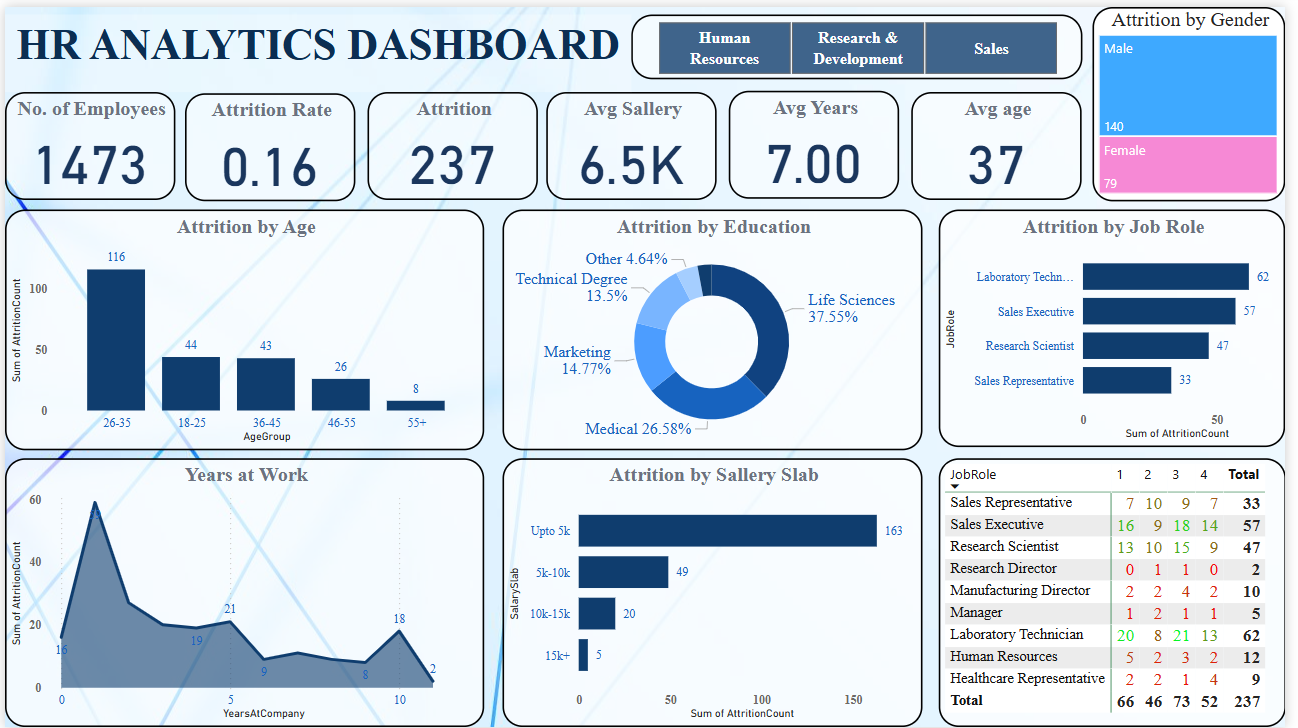

The page's visual inventory and layout, read from the dashboard file:
{"tool":"powerbi","page":{"name":"Page 1","canvas":[1280,720],"ordinal":0},"visuals":[{"type":"card","title":"No. of Employees","fields":{"Values":["CountNonNull(HR_Analytics.EmpID)"]},"box":[0,85.1,170,108],"z":0},{"type":"card","title":"Attrition Rate","fields":{"Values":["HR_Analytics.AttritionRate"]},"box":[180.3,86.6,170.2,108.2],"z":1000},{"type":"card","title":"Attrition","fields":{"Values":["Sum(HR_Analytics.AttritionCount)"]},"box":[362.1,85.1,170.2,108.2],"z":2000},{"type":"card","title":"Avg age ","fields":{"Values":["Avg(HR_Analytics.Age)"]},"box":[906.1,85.1,170.2,108.2],"z":3000},{"type":"card","title":"Avg Years","fields":{"Values":["Avg(HR_Analytics.YearsAtCompany)"]},"box":[724.3,83.7,170.2,108.2],"z":4000},{"type":"card","title":"Avg Sallery","fields":{"Values":["Avg(HR_Analytics.MonthlyIncome)"]},"box":[541,85.1,170.2,108.2],"z":5000},{"type":"donutChart","title":" Attrition by Education","fields":{"Category":["HR_Analytics.EducationField"],"Y":["Sum(HR_Analytics.AttritionCount)"]},"box":[497.3,203.1,419.6,240.4],"z":6000},{"type":"columnChart","title":"Attrition by Age","fields":{"Y":["Sum(HR_Analytics.AttritionCount)"],"Category":["HR_Analytics.AgeGroup"]},"box":[0,203.1,479.3,240.4],"z":7000},{"type":"pivotTable","fields":{"Rows":["HR_Analytics.JobRole"],"Columns":["HR_Analytics.JobSatisfaction"],"Values":["Sum(HR_Analytics.AttritionCount)"]},"box":[933.3,451,347,269],"z":8000},{"type":"barChart","title":"Attrition by Sallery Slab","fields":{"Category":["HR_Analytics.SalarySlab"],"Y":["Sum(HR_Analytics.AttritionCount)"]},"box":[497.3,451,420,269],"z":9000},{"type":"barChart","title":"Attrition by Job Role","fields":{"Category":["HR_Analytics.JobRole"],"Y":["Sum(HR_Analytics.AttritionCount)"]},"box":[933.3,203.1,346.4,237.4],"z":10000},{"type":"areaChart","title":"Years at Work","fields":{"Category":["HR_Analytics.YearsAtCompany"],"Y":["Sum(HR_Analytics.AttritionCount)"]},"box":[0,451,479.3,268.8],"z":11000},{"type":"treemap","title":"Attrition by Gender","fields":{"Group":["HR_Analytics.Gender"],"Values":["Sum(HR_Analytics.AttritionCount)"]},"box":[1087.1,0,192.6,194.1],"z":12000},{"type":"slicer","fields":{"Values":["HR_Analytics.Department"]},"box":[626.2,7.2,451.6,64.9],"z":13000},{"type":"textbox","box":[0,7.2,626.2,77.9],"z":14000}]}

Visuals, with their boxes in screenshot pixels (x1, y1, x2, y2), scaled from the page's 1280x720 canvas onto the 1298x728 screenshot:
"No. of Employees" card: box=[0, 86, 172, 195]
"Attrition Rate" card: box=[183, 88, 355, 197]
"Attrition" card: box=[367, 86, 540, 195]
"Avg age " card: box=[919, 86, 1091, 195]
"Avg Years" card: box=[734, 85, 907, 194]
"Avg Sallery" card: box=[549, 86, 721, 195]
" Attrition by Education" donutChart: box=[504, 205, 930, 448]
"Attrition by Age" columnChart: box=[0, 205, 486, 448]
pivotTable - HR_Analytics.JobRole x HR_Analytics.JobSatisfaction: box=[946, 456, 1297, 727]
"Attrition by Sallery Slab" barChart: box=[504, 456, 930, 727]
"Attrition by Job Role" barChart: box=[946, 205, 1297, 445]
"Years at Work" areaChart: box=[0, 456, 486, 727]
"Attrition by Gender" treemap: box=[1102, 0, 1297, 196]
slicer - HR_Analytics.Department: box=[635, 7, 1093, 73]
textbox: box=[0, 7, 635, 86]
